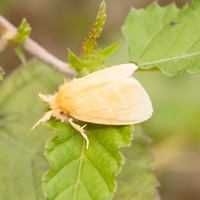insect: (32, 63, 152, 147)
